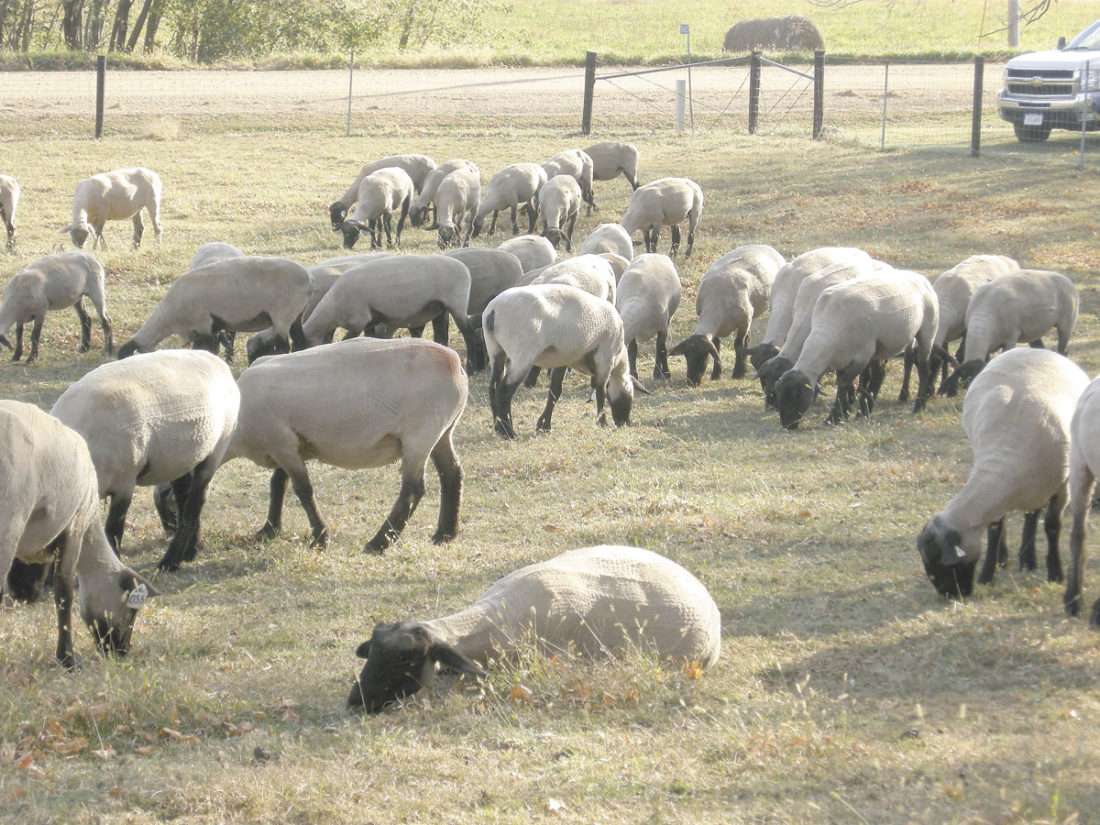sheep: (335, 542, 755, 730), (215, 316, 499, 582), (922, 348, 1100, 601), (70, 342, 227, 600), (1, 402, 127, 688), (768, 287, 945, 419), (487, 291, 651, 427), (736, 245, 893, 377), (673, 248, 813, 391), (285, 256, 478, 359), (130, 256, 295, 357), (604, 245, 715, 391), (964, 279, 1100, 392), (910, 257, 1047, 359), (1, 244, 118, 350), (615, 171, 727, 250), (71, 159, 170, 247), (510, 228, 615, 288), (341, 156, 416, 240), (430, 151, 487, 247), (465, 162, 536, 239), (531, 167, 588, 244), (582, 142, 655, 190)
